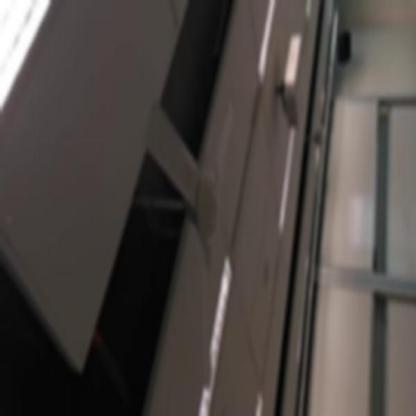light_on: (0, 0, 60, 155), (191, 246, 235, 415), (275, 118, 299, 247), (251, 0, 284, 85), (249, 382, 268, 414), (302, 0, 315, 24)
